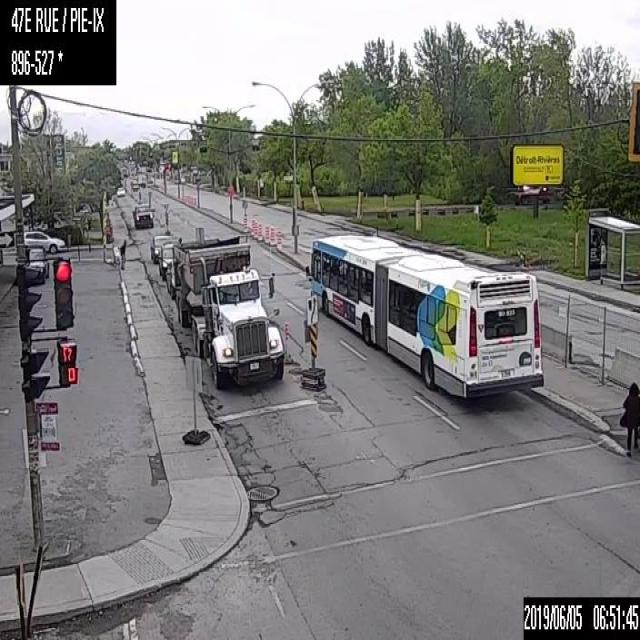bus: (302, 231, 544, 401)
construction: (283, 320, 288, 363), (186, 193, 196, 204), (263, 225, 269, 243), (256, 223, 262, 240), (275, 228, 281, 245), (269, 226, 274, 243), (251, 219, 256, 236)
pedestrian: (618, 380, 639, 457), (119, 238, 126, 270)
vehicle: (170, 236, 284, 389), (14, 245, 49, 282), (24, 228, 66, 253), (150, 232, 174, 262), (157, 240, 174, 276), (131, 204, 153, 228), (164, 260, 174, 300), (114, 184, 126, 197)
